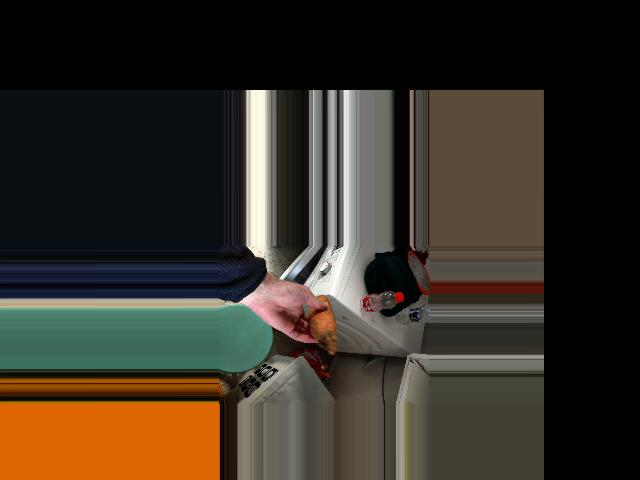sweet_potato: (311, 298, 336, 343)
